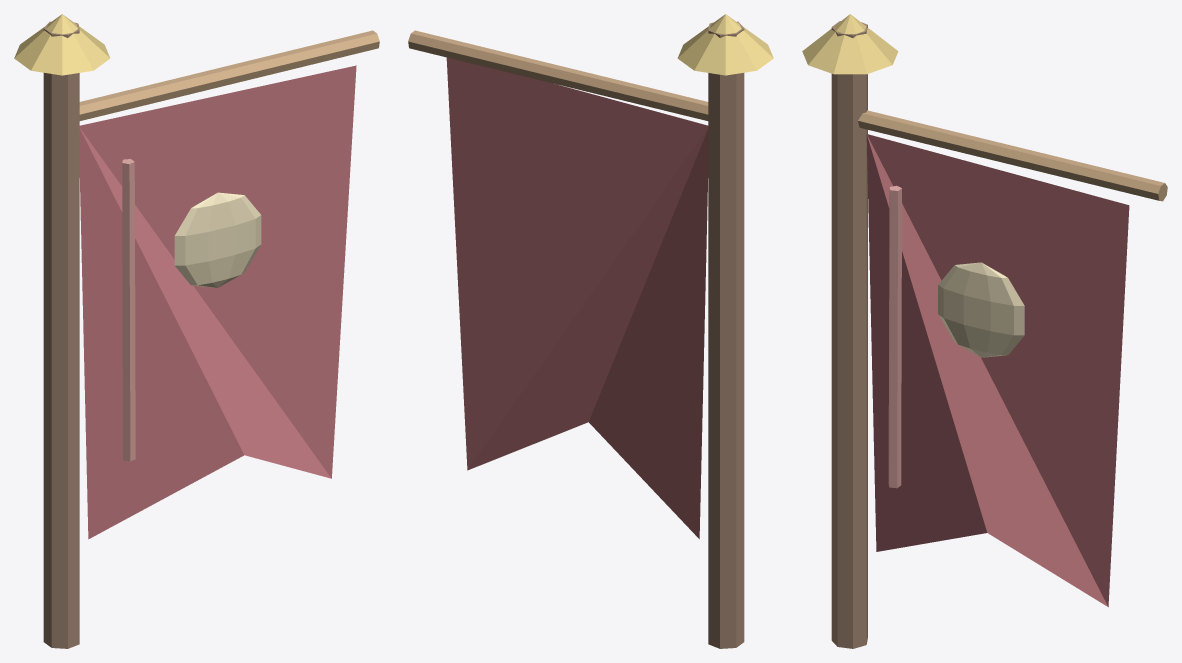
The model's file is estandarte_rojo.glb.
The picture shows the model from 3 angles, left to right: view 1: azimuth 30°, elevation 25°; view 2: azimuth 150°, elevation 25°; view 3: azimuth 330°, elevation 25°; orthographic projection.
Parts seen in each view (by area): view 1: estandarte_rojo; view 2: estandarte_rojo; view 3: estandarte_rojo.
Part boxes in pixels (left/top/right/bottom): estandarte_rojo: left=14, top=14, right=379, bottom=648; estandarte_rojo: left=408, top=14, right=773, bottom=648; estandarte_rojo: left=802, top=14, right=1167, bottom=648.
Size of the model in its own units: 1.08 by 1.84 by 0.2561.
